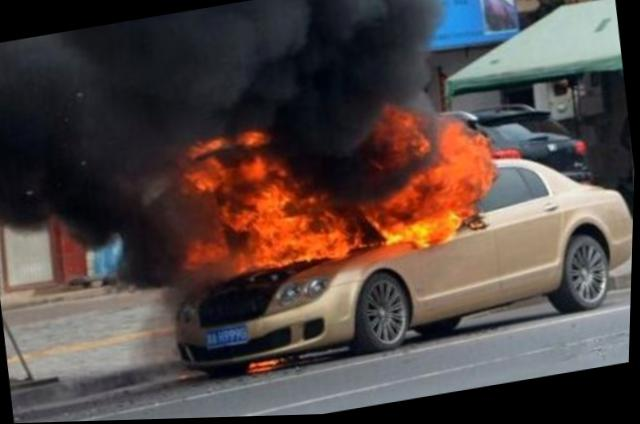fire: (165, 77, 508, 300)
